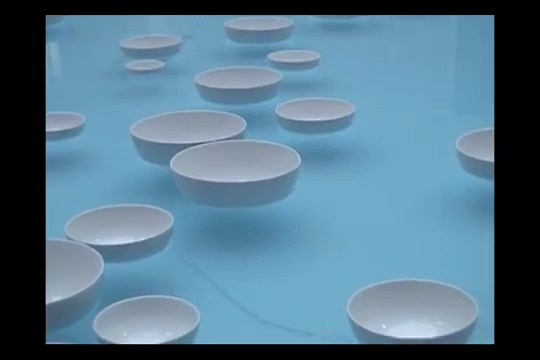bowl: (169, 139, 302, 206), (346, 278, 479, 343), (64, 203, 176, 261), (129, 109, 248, 163), (92, 292, 199, 344), (46, 236, 105, 321), (194, 65, 283, 105), (275, 97, 355, 133), (454, 126, 494, 181), (223, 16, 295, 45), (119, 33, 182, 60), (46, 110, 87, 139), (266, 49, 322, 70), (126, 59, 166, 73)
